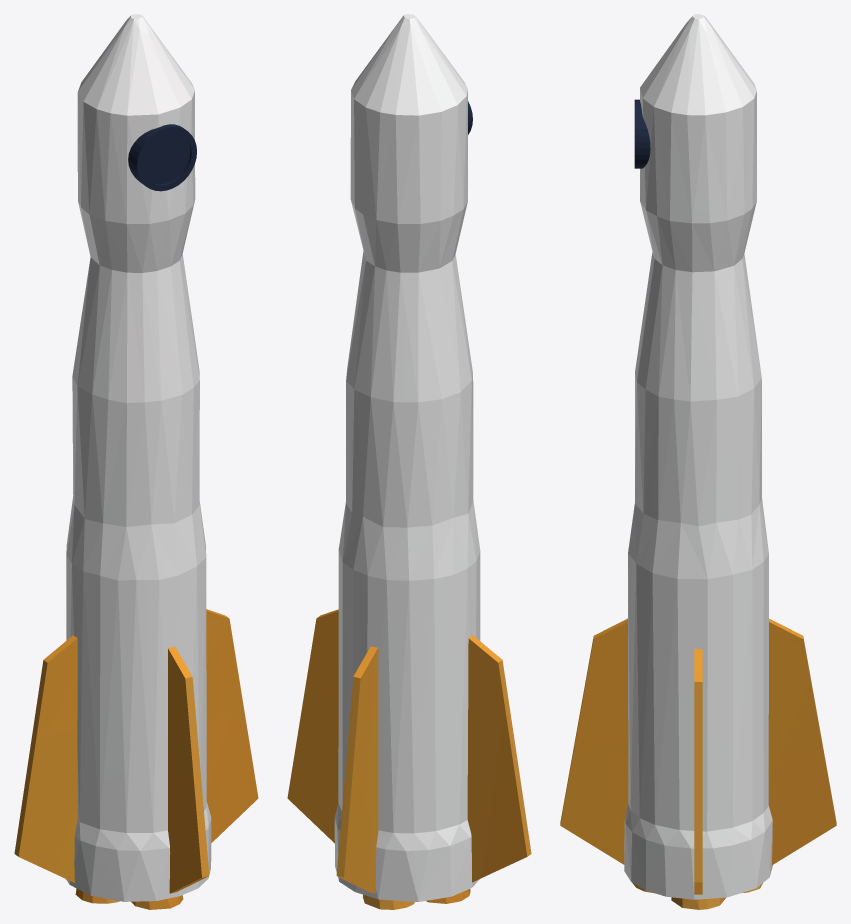
File: SpaceRocket_ver2.fbx
3 renders of one model, left to right at view 1: azimuth 30°, elevation 25°; view 2: azimuth 150°, elevation 25°; view 3: azimuth 270°, elevation 25°, orthographic.
Parts seen in each view (by area): view 1: Rocket; view 2: Rocket; view 3: Rocket.
Part boxes in pixels (box(x1,y1,x2,y2)): Rocket: box(14, 14, 258, 909); Rocket: box(287, 14, 531, 909); Rocket: box(560, 14, 836, 909).
Size of the model in its own units: 2.02 by 6.97 by 2.02.
